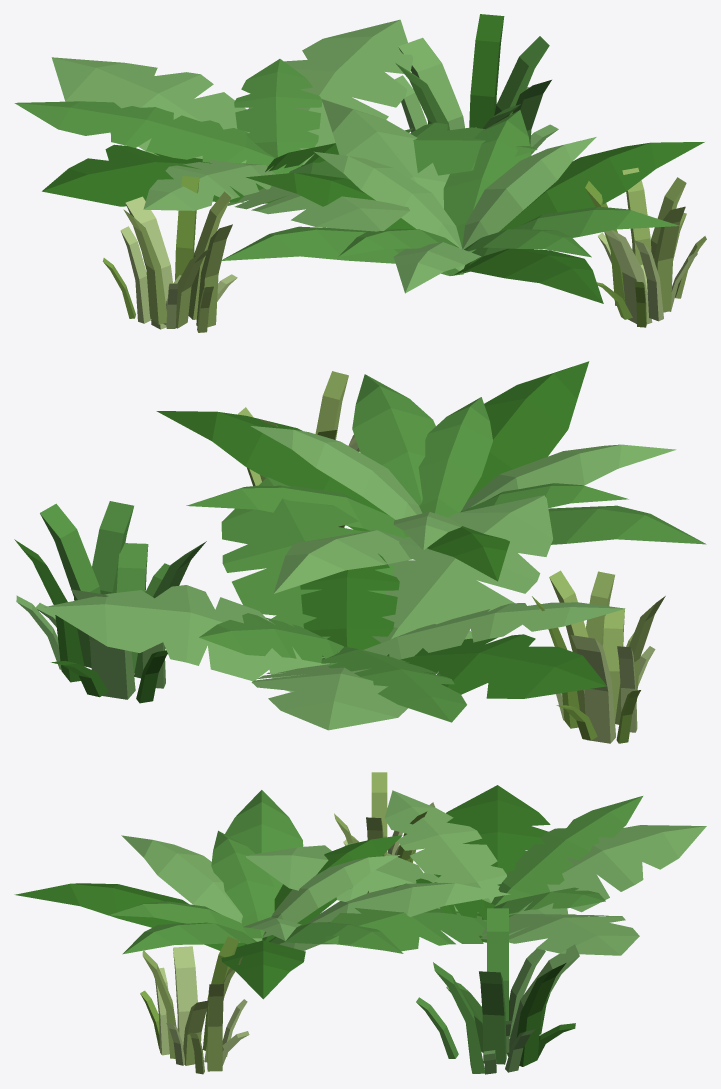
Rendered from GrassSet3.glb.
The picture shows the model from 3 angles, top to bottom: view 1: azimuth 30°, elevation 25°; view 2: azimuth 150°, elevation 25°; view 3: azimuth 270°, elevation 25°; orthographic projection. The views are drawn at different scales.
Parts seen in each view (by area): view 1: Bust_12, Bust_16, Bust_4, Bust_0, Bust_4__1_; view 2: Bust_12, Bust_16, Bust_0, Bust_4, Bust_4__1_; view 3: Bust_12, Bust_16, Bust_0, Bust_4__1_, Bust_4.
Boxes of the visible parts, box(x1,y1,x2,y2) form: Bust_12: box(14, 19, 537, 231); Bust_16: box(220, 99, 704, 303); Bust_4: box(102, 176, 237, 332); Bust_0: box(394, 14, 558, 154); Bust_4__1_: box(585, 167, 706, 327); Bust_12: box(43, 477, 625, 730); Bust_16: box(156, 361, 706, 593); Bust_0: box(14, 501, 206, 703); Bust_4: box(532, 570, 665, 743); Bust_4__1_: box(237, 371, 359, 527); Bust_12: box(246, 785, 706, 955); Bust_16: box(14, 790, 510, 999); Bust_0: box(416, 908, 579, 1074); Bust_4__1_: box(140, 936, 249, 1074); Bust_4: box(334, 772, 435, 893).
Bounding box in the file's own units: 1.05 × 0.2735 × 1.34.
Materials: 1 (1 with a texture image).
